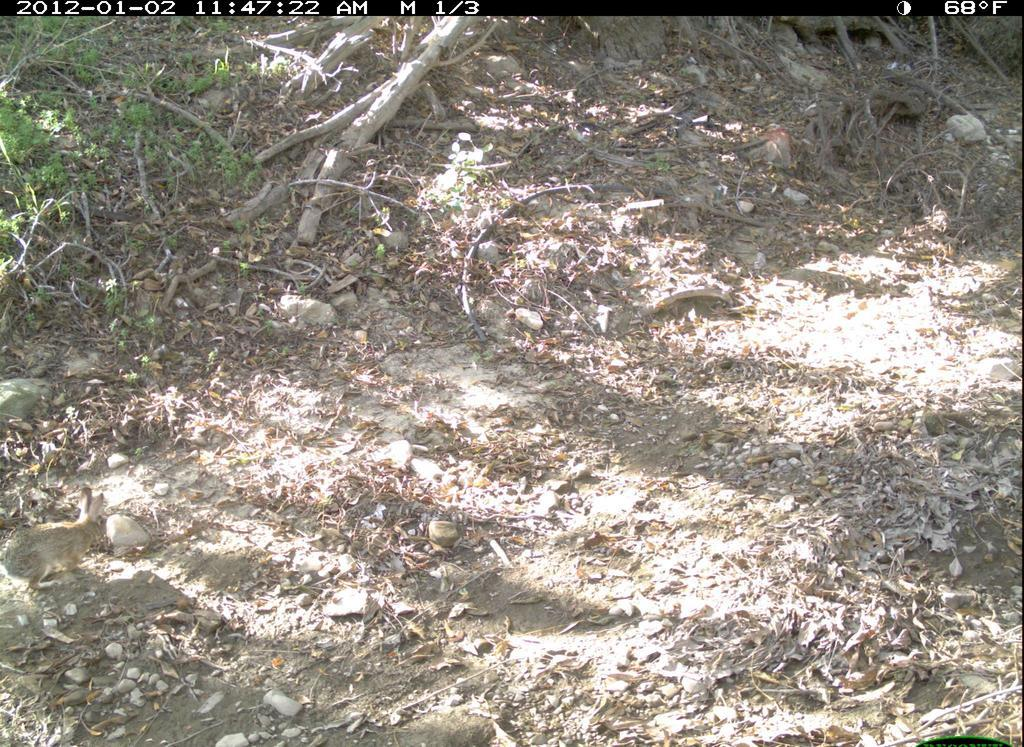rabbit: (1, 483, 123, 609)
